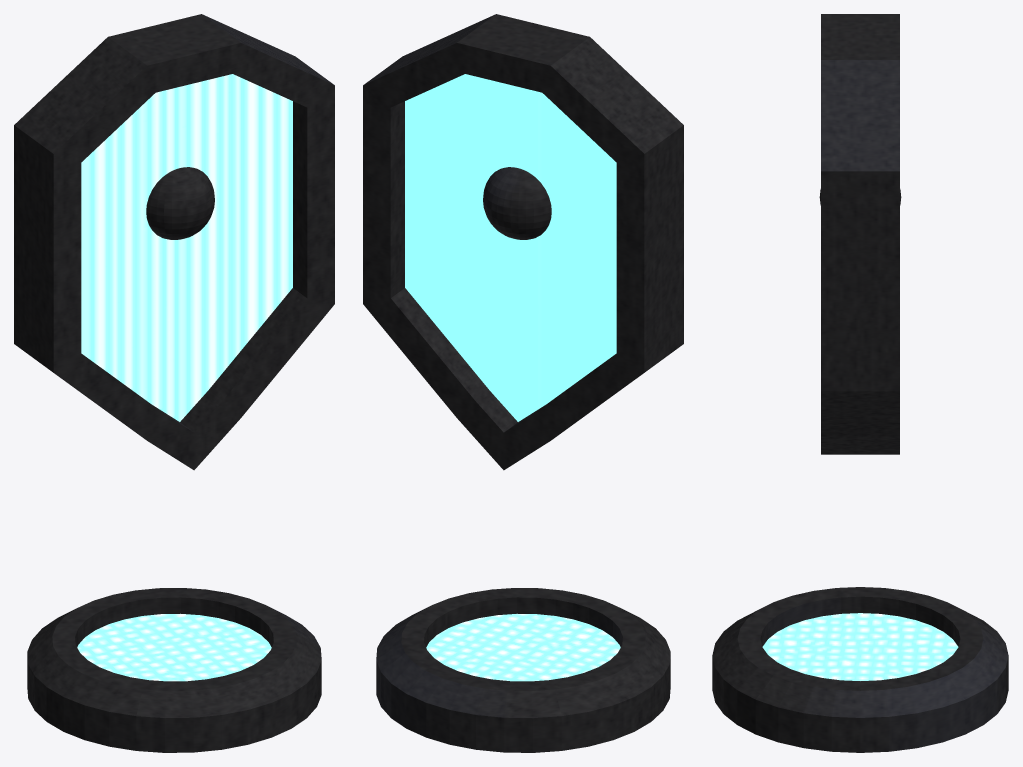
Rendered from ShieldPowerUp.fbx.
3 views of the same model, side by side, from view 1: azimuth 30°, elevation 25°; view 2: azimuth 150°, elevation 25°; view 3: azimuth 270°, elevation 25° (orthographic).
Parts seen in each view (by area): view 1: Shield; view 2: Shield; view 3: Shield.
Part boxes in pixels (x1,y1,x2,y2): Shield: (14, 14, 334, 752); Shield: (363, 14, 683, 752); Shield: (712, 14, 1008, 752).
Size of the model in its own units: 100 by 221 by 90.81.
